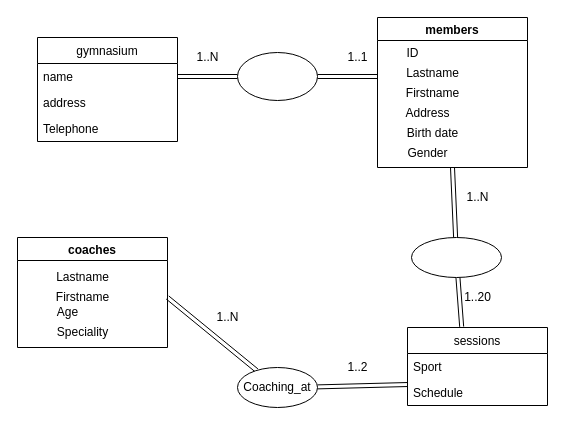
This 565x442 diagram has some shape labels left out. Here are the shapes that lost their labels. From the top down, the centre of each, then its label:
[277,76]: Registered_at
[456,257]: attending
